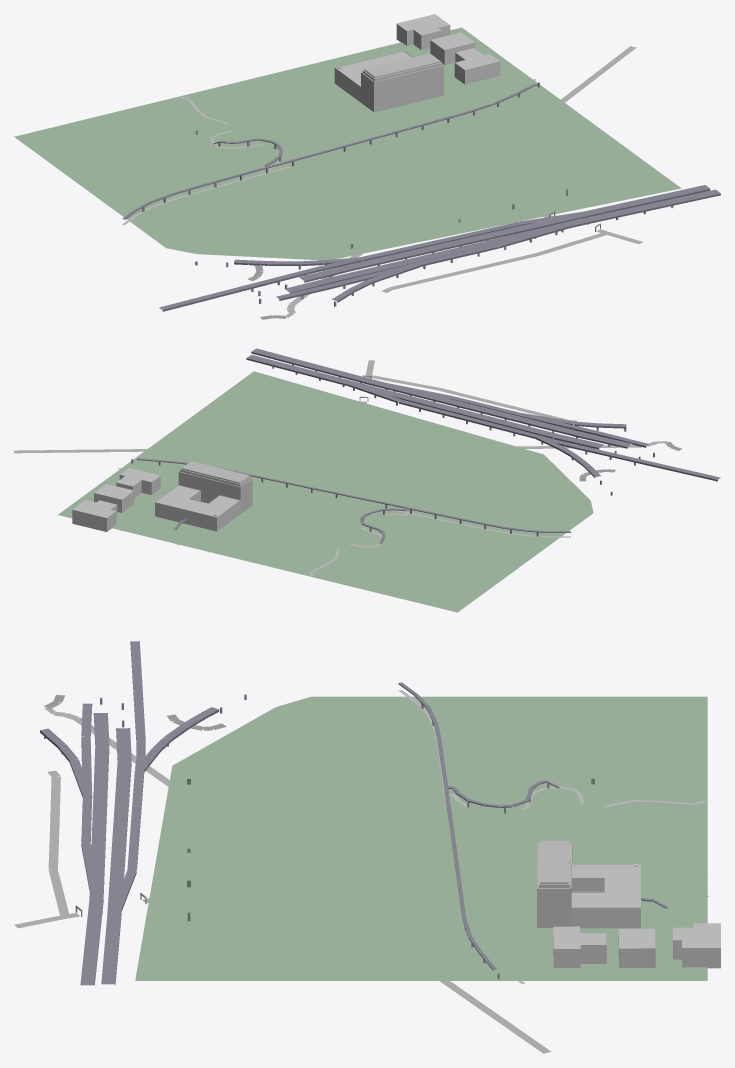
3 renders of one model, top to bottom at view 1: azimuth 30°, elevation 25°; view 2: azimuth 150°, elevation 25°; view 3: azimuth 270°, elevation 25°, orthographic. The views are drawn at different scales.
Size of the model in its own units: 707 by 37.88 by 525.
